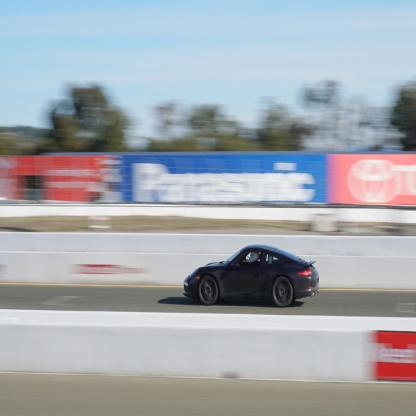Car: (184, 246, 320, 306)
